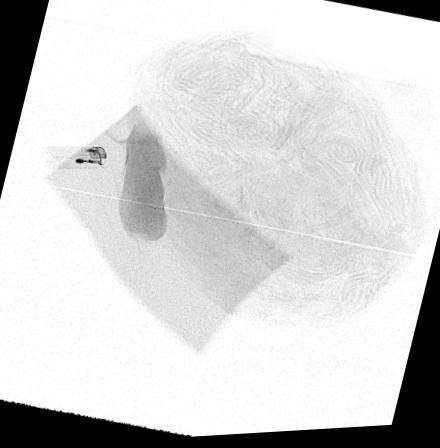Lighter: (44, 147, 108, 170)
